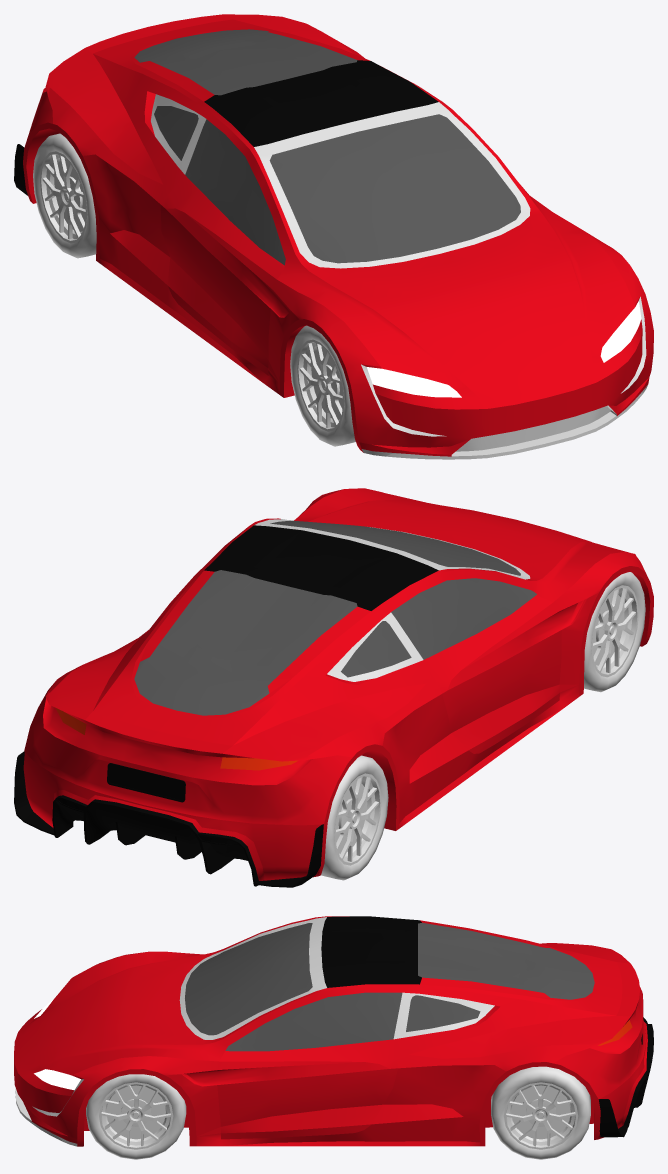
The model's file is tesla_roadster_-_low_poly.glb.
3 renders of one model, top to bottom at view 1: azimuth 30°, elevation 25°; view 2: azimuth 150°, elevation 25°; view 3: azimuth 270°, elevation 25°, orthographic. The views are drawn at different scales.
Parts seen in each view (by area): view 1: Tesla, Tesla.001, Tesla.002, Tesla.003, TeslaTire.002, Tesla.006, TeslaTire.005, TeslaTire.003, Tesla.004, Tesla.009, Tesla.005; view 2: Tesla, Tesla.001, Tesla.002, Tesla.008, TeslaTire.002, TeslaTire.005, TeslaTire.003, Tesla.003, Tesla.009, Plate2.001, Tesla.007; view 3: Tesla, Tesla.001, TeslaTire.002, Tesla.002, TeslaTire.003, Tesla.003, TeslaTire.005, Tesla.008, Tesla.009, Tesla.004, TeslaTire.004, Tesla.006.
Boxes of the visible parts, x1,y1,x2,y2 form: Tesla: (23,14,653,456); Tesla.001: (134,29,520,265); Tesla.002: (204,60,438,146); Tesla.003: (151,94,530,268); TeslaTire.002: (33,133,355,446); Tesla.006: (362,385,647,459); TeslaTire.005: (42,154,342,427); TeslaTire.003: (40,151,344,431); Tesla.004: (367,301,641,397); Tesla.009: (140,31,370,101); Tesla.005: (361,296,646,436); Tesla: (23,488,653,880); Tesla.001: (134,520,536,715); Tesla.002: (204,525,438,610); Tesla.008: (14,751,323,887); TeslaTire.002: (321,572,645,880); TeslaTire.005: (335,588,635,861); TeslaTire.003: (334,585,638,865); Tesla.003: (254,519,530,681); Tesla.009: (140,570,370,693); Plate2.001: (107,763,185,802); Tesla.007: (55,707,297,770); Tesla: (14,916,647,1146); Tesla.001: (185,922,594,1051); TeslaTire.002: (86,1066,590,1159); Tesla.002: (321,916,421,987); TeslaTire.003: (99,1082,578,1149); Tesla.003: (179,917,494,1039); TeslaTire.005: (101,1085,575,1146); Tesla.008: (598,1017,653,1137); Tesla.009: (420,920,549,997); Tesla.004: (34,999,80,1089); TeslaTire.004: (121,1099,555,1126); Tesla.006: (15,1088,77,1146).
Bounding box in the file's own units: 2.08 × 1.33 × 4.84.
